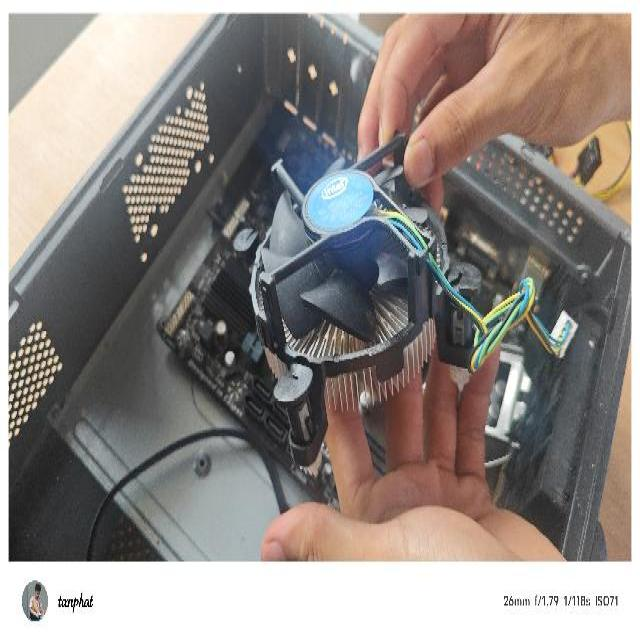CPU_Fan: (232, 123, 498, 479)
